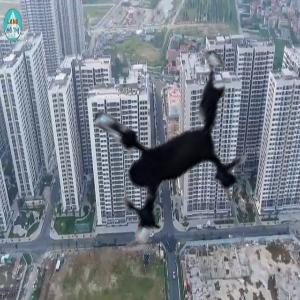drone: (40, 24, 282, 266)
